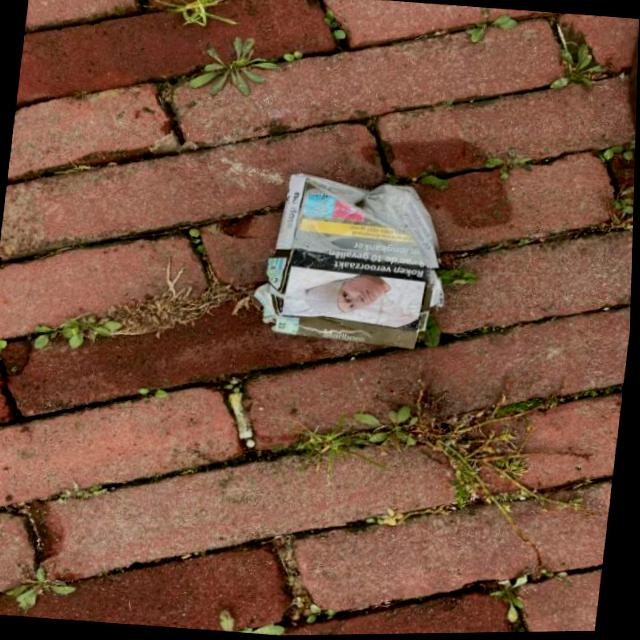Paper: (248, 166, 461, 355)
